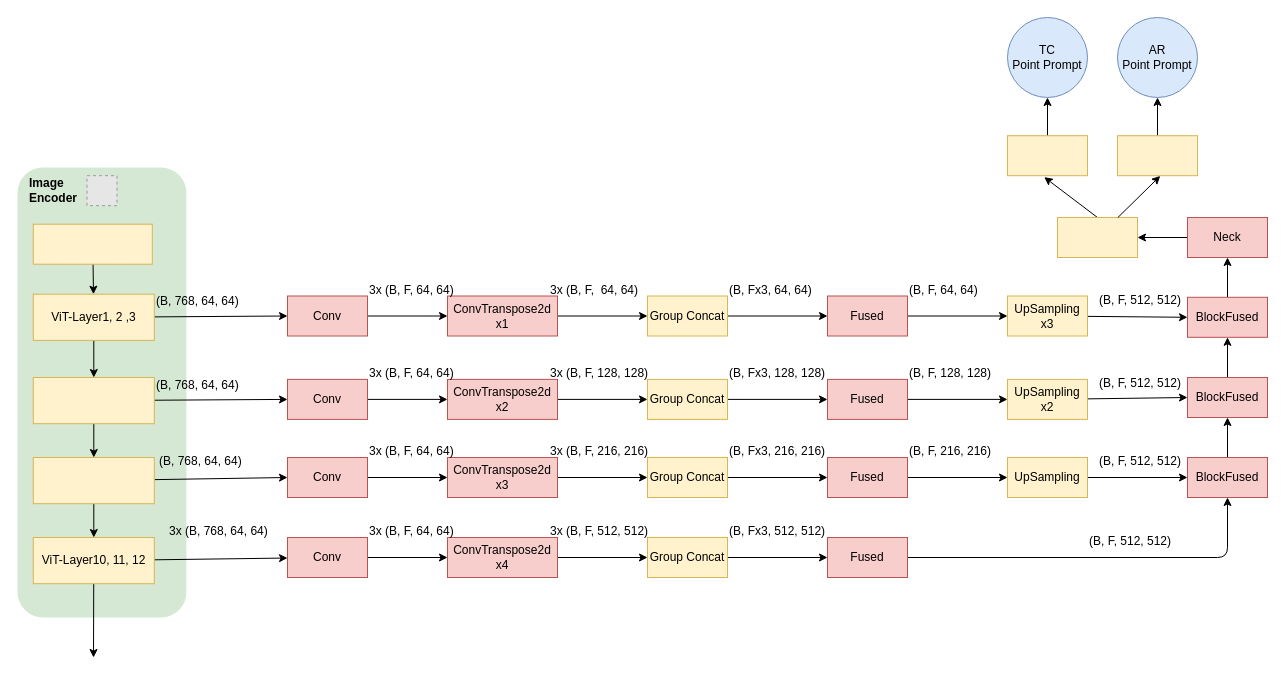
Some shapes in this 1285 by 683 pixel diagram are drawn without their labels. Grey dashed boxes stand in for pictures. The shapes that lost their labels are listed below. From the top down, each one's centre as x and y in pixels, then its label:
At (1047,155): "TC Mask".
At (1157,155): "AR Mask".
At (92,243): "Patch Embed".
At (1097,237): "Threshold".
At (93,400): "ViT-Layer4, 5, 6".
At (93,480): "ViT-Layer7, 8 ,9".
